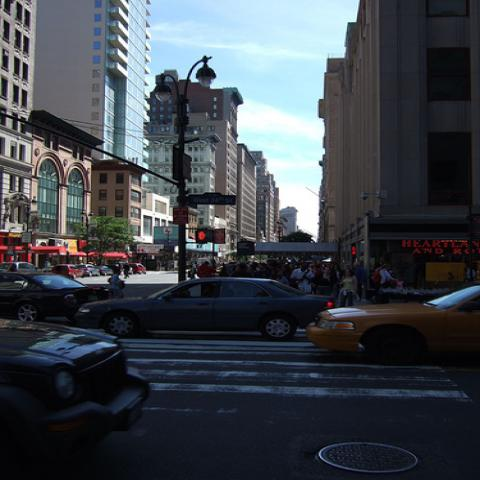car: (0, 311, 150, 477), (75, 276, 336, 342), (304, 285, 480, 363), (3, 273, 122, 315), (0, 261, 43, 274), (56, 263, 86, 278), (75, 264, 101, 277), (126, 262, 146, 274), (116, 262, 134, 275), (98, 264, 114, 276)
